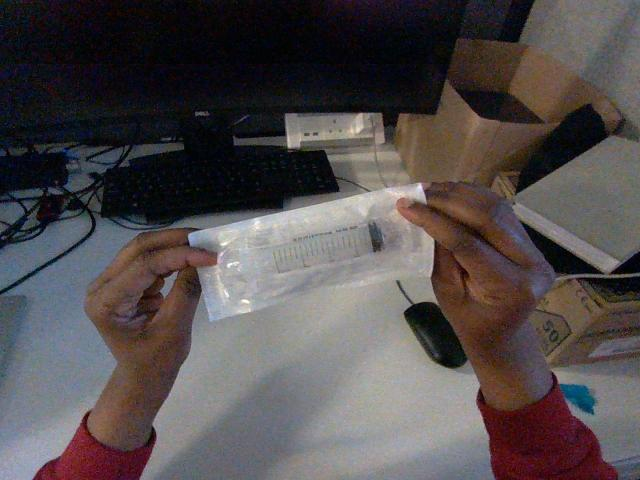syringe: (189, 184, 433, 320)
